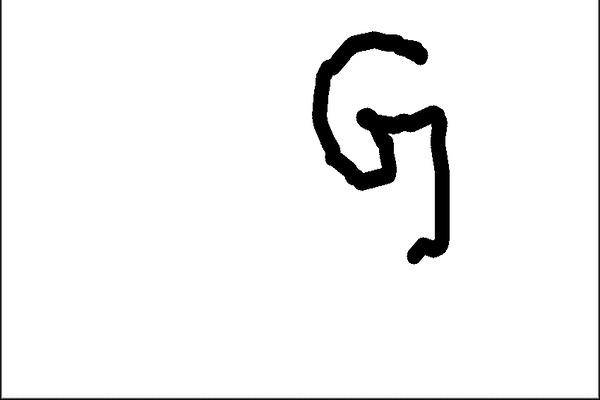G: (307, 26, 459, 267)
